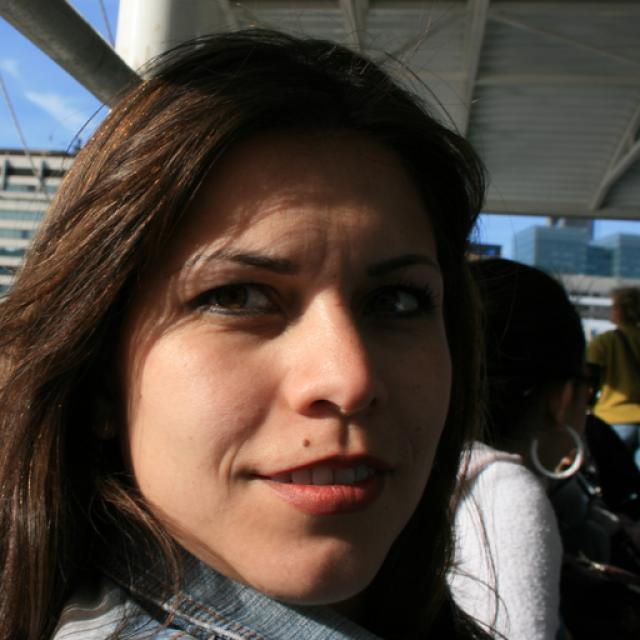content: (117, 108, 453, 604), (608, 296, 624, 324)
